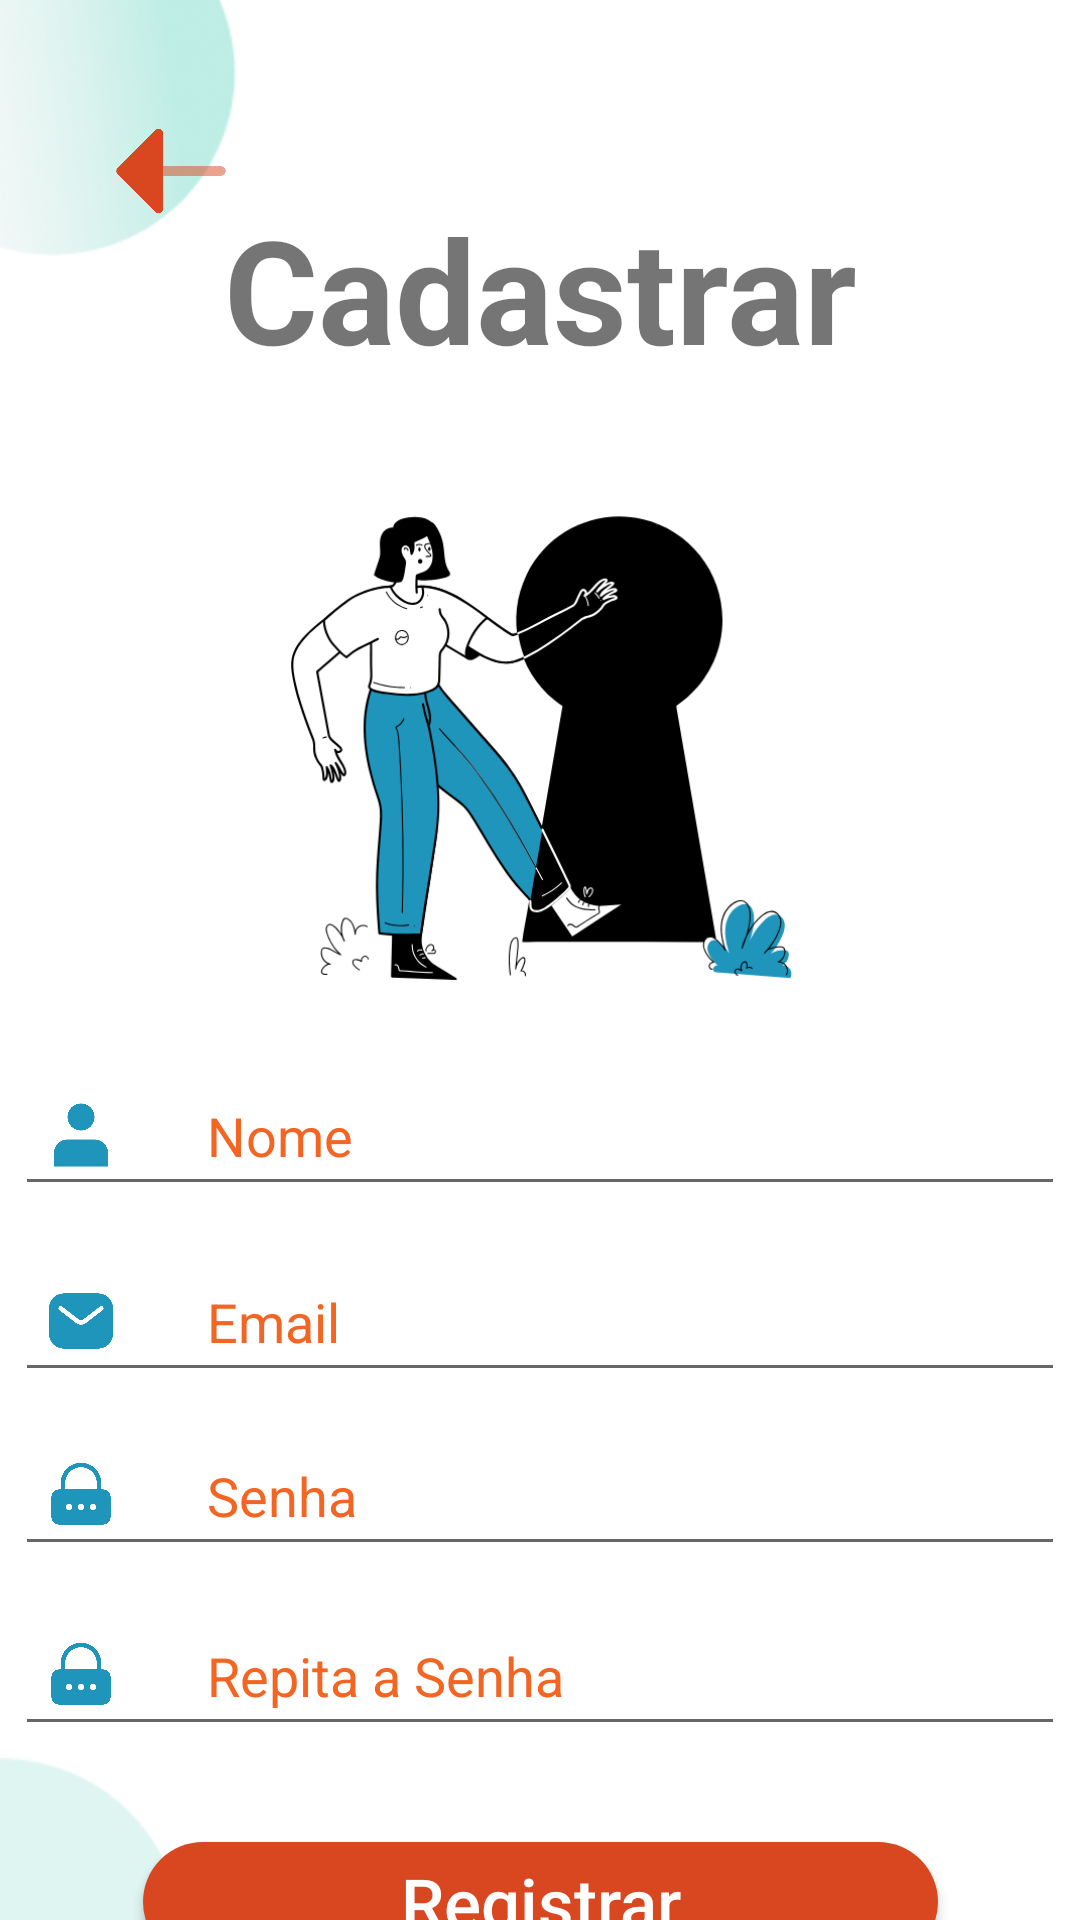

Icons on this 1080×1920 Android screen, each with the point to tap as [x,y]:
arrow back: [171,171]
